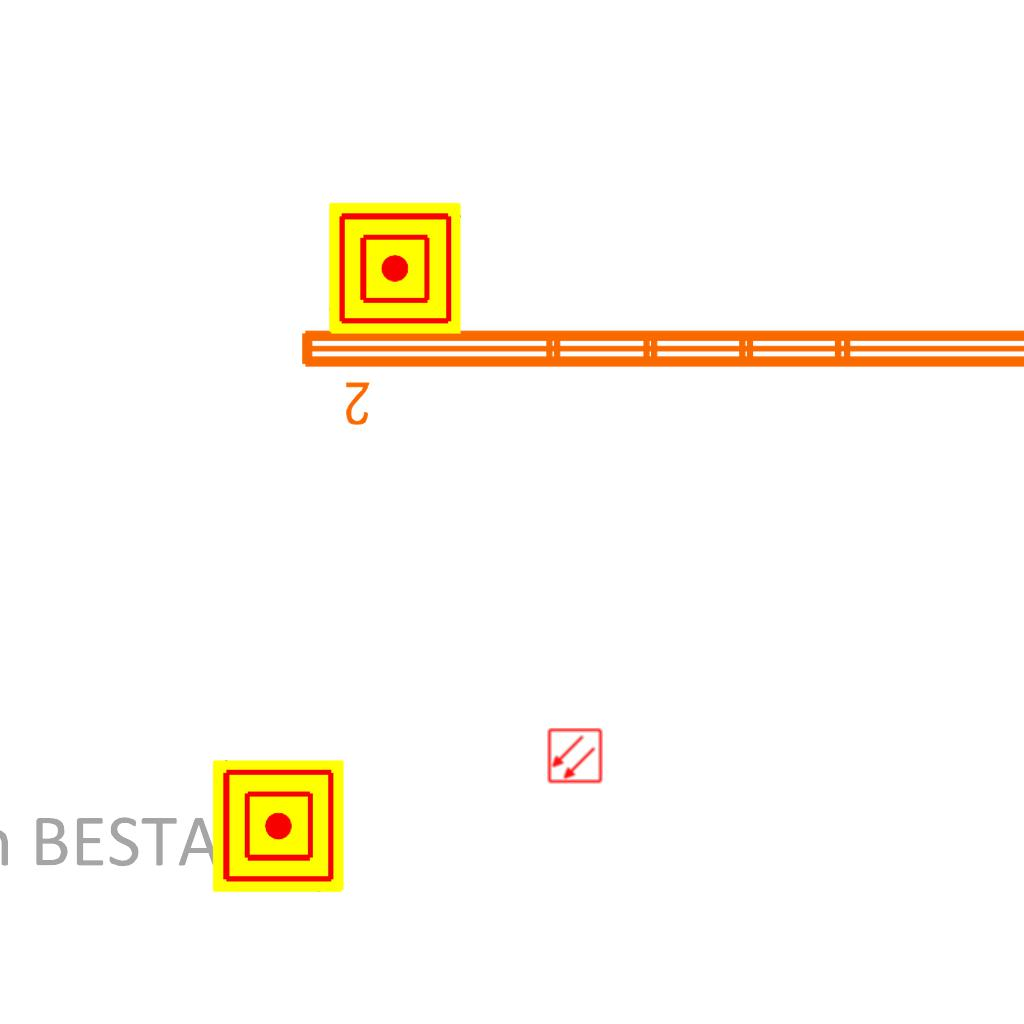Ambulanz_Pendelleuchte_LED: (293, 318, 1024, 430)
NAM-Nichtautomatischer_Melder: (212, 760, 344, 892), (329, 202, 461, 334)
RMO_Rauchmelder_optischer: (547, 728, 603, 784)
